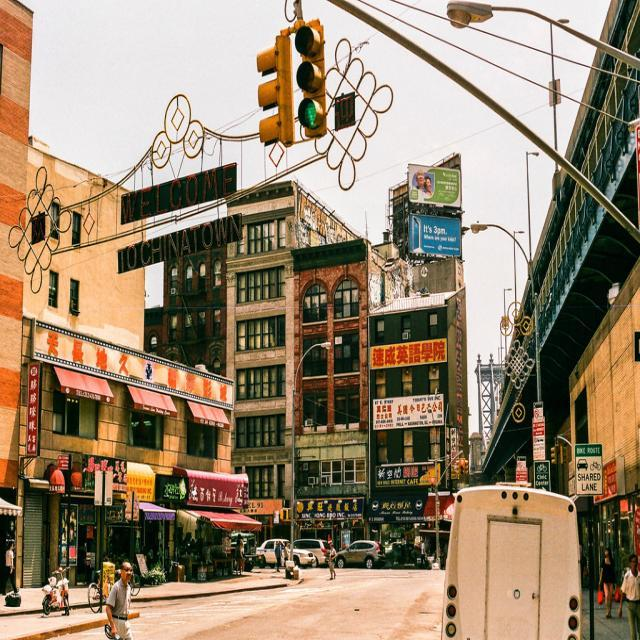off traffic light: (256, 39, 291, 147)
traffic light: (295, 15, 327, 146), (455, 455, 469, 476), (431, 476, 435, 493)
